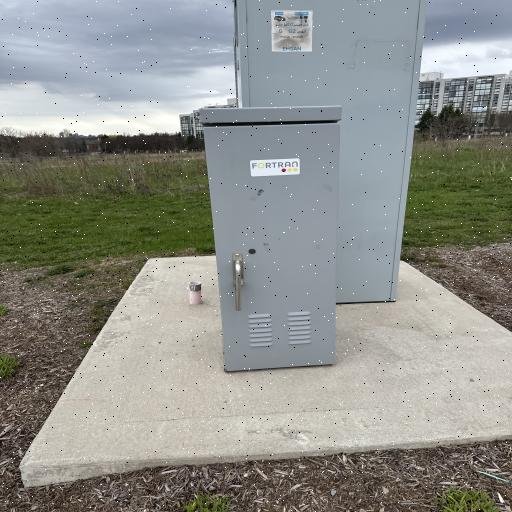Electrical Box: (232, 0, 422, 303), (195, 107, 345, 370)
